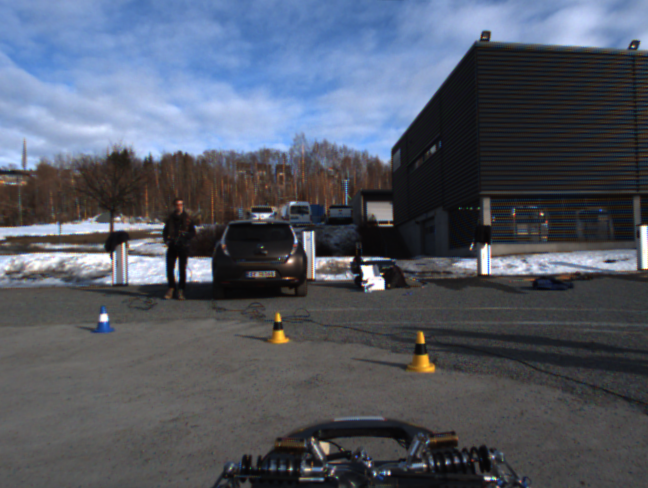cone-small-blue: (94, 306, 115, 334)
cone-small-yellow: (406, 330, 435, 373), (266, 311, 292, 343)
